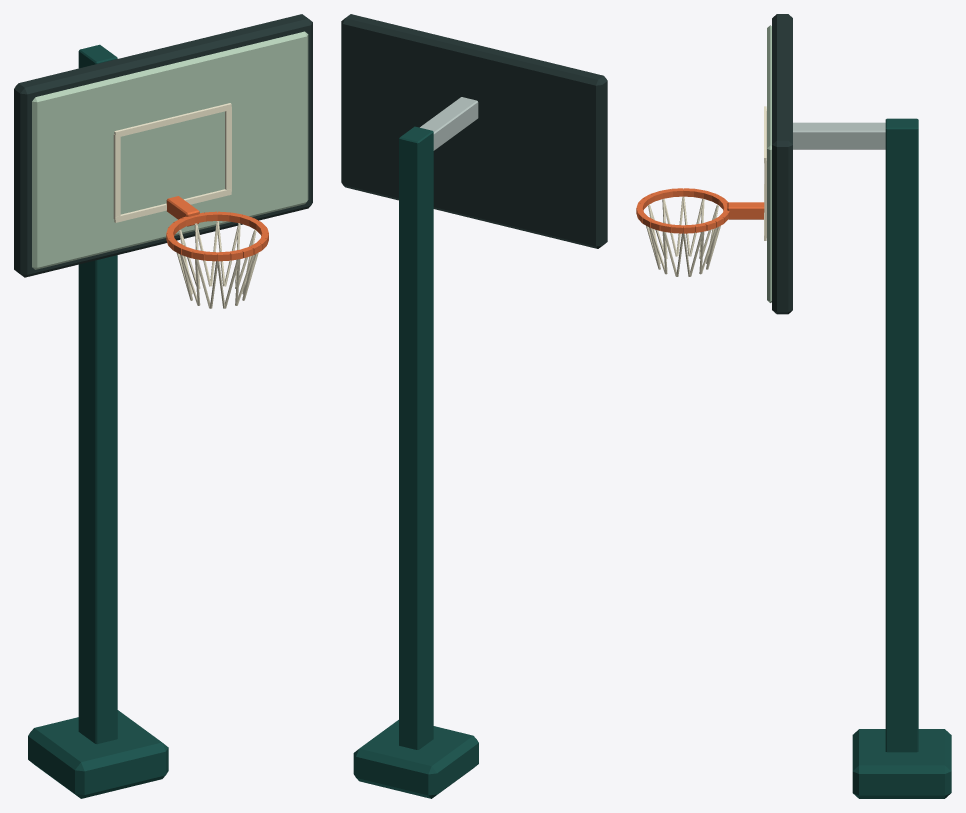
Rendered from basket_hoop.glb.
3 renders of one model, left to right at view 1: azimuth 30°, elevation 25°; view 2: azimuth 150°, elevation 25°; view 3: azimuth 270°, elevation 25°, orthographic. The views are drawn at different scales.
Visible parts, largest first — view 1: Tabela, Coluna da tabela, Quadro da tabela, Sapatas, Mira horizontal.001, Mira horizontal, Mira vertical, Mira vertical.001; view 2: Quadro da tabela, Coluna da tabela, Sapatas, Braço; view 3: Coluna da tabela, Quadro da tabela, Sapatas, Braço, Tabela, Suporte do aro.
Boxes of the visible parts, x1,y1,x2,y2 form: Tabela: (32,31,308,269); Coluna da tabela: (78,44,117,744); Quadro da tabela: (14,14,312,277); Sapatas: (28,710,168,798); Mira horizontal.001: (114,103,231,137); Mira horizontal: (114,189,231,222); Mira vertical: (113,134,120,219); Mira vertical.001: (225,107,231,191); Quadro da tabela: (341,14,607,248); Coluna da tabela: (399,126,433,749); Sapatas: (353,720,478,798); Braço: (420,97,478,150); Coluna da tabela: (885,118,918,752); Quadro da tabela: (772,14,792,314); Sapatas: (852,729,951,798); Braço: (793,122,885,149); Tabela: (767,25,771,302); Suporte do aro: (727,202,764,219).
Size of the model in its own units: 1.5 by 3.76 by 1.53.
